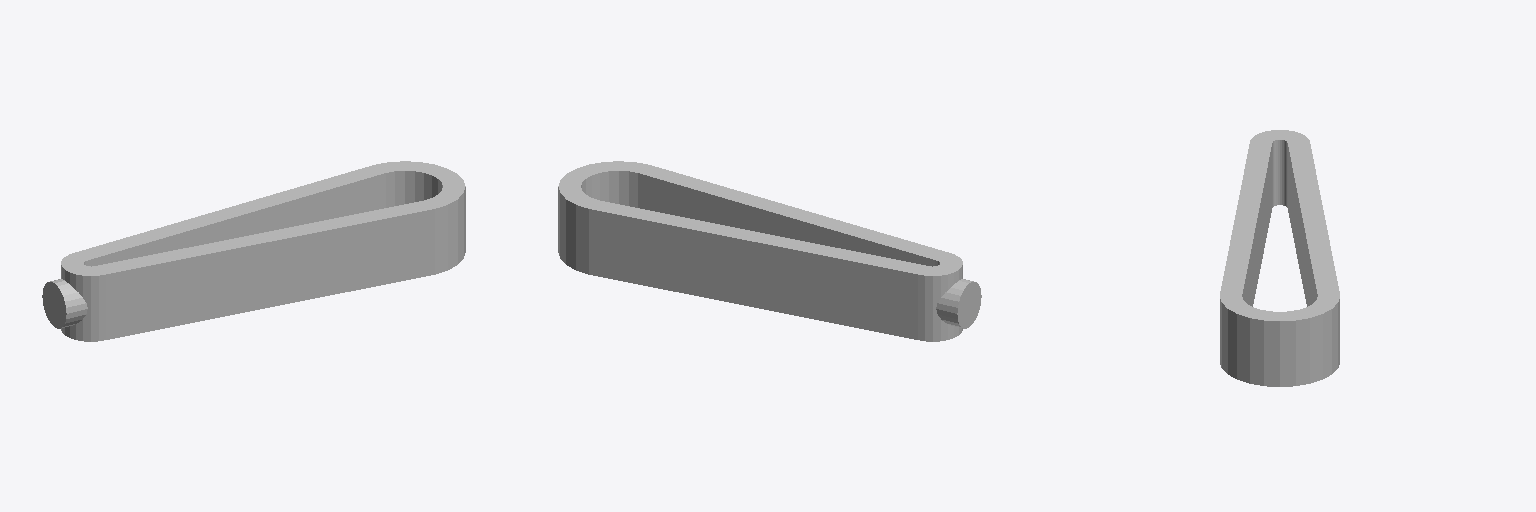
The model's file is Axis3.obj.
The picture shows the model from 3 angles: view 1: azimuth 30°, elevation 25°; view 2: azimuth 150°, elevation 25°; view 3: azimuth 270°, elevation 25°; orthographic projection.
Parts seen in each view (by area): view 1: Mesh1 Group1 Model; view 2: Mesh1 Group1 Model; view 3: Mesh1 Group1 Model.
Part boxes in pixels (left/top/right/bottom): Mesh1 Group1 Model: left=42, top=161, right=465, bottom=341; Mesh1 Group1 Model: left=558, top=161, right=981, bottom=341; Mesh1 Group1 Model: left=1220, top=130, right=1339, bottom=386.
Bounding box in the file's own units: 0.385 × 0.06 × 0.1.